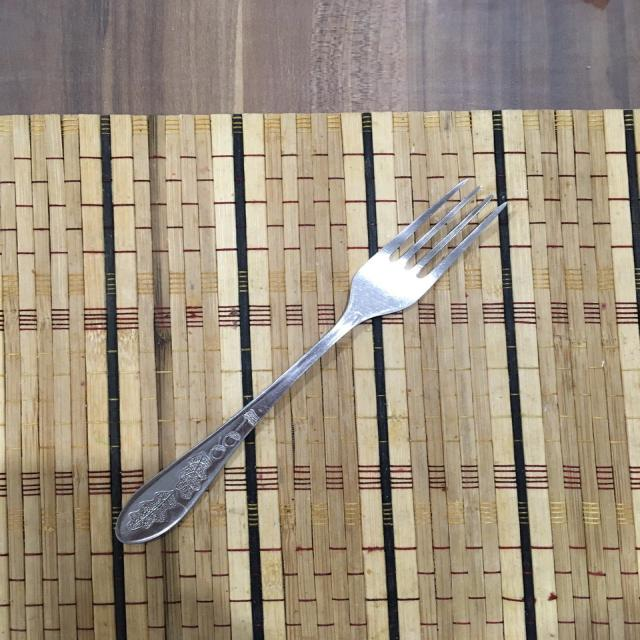fork: (101, 176, 509, 550)
